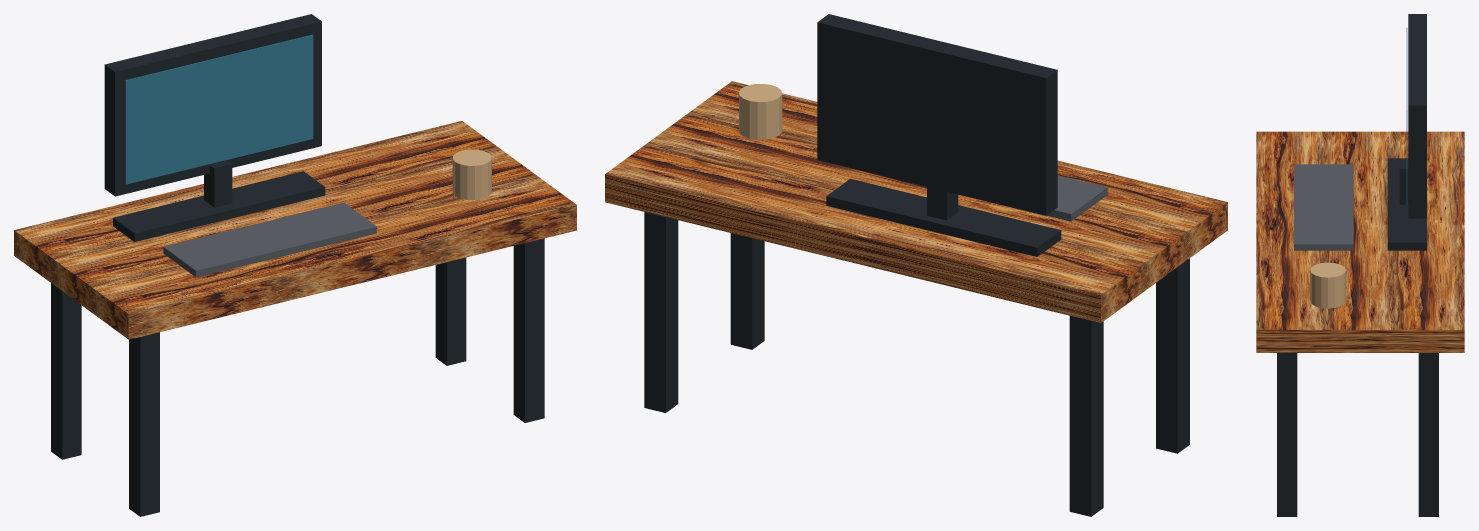
Rendered from desk.obj.
3 renders of one model, left to right at view 1: azimuth 30°, elevation 25°; view 2: azimuth 150°, elevation 25°; view 3: azimuth 270°, elevation 25°, orthographic. The views are drawn at different scales.
Parts seen in each view (by area): view 1: desk; view 2: desk; view 3: desk.
Part boxes in pixels (x1,y1,x2,y2): desk: [14, 14, 576, 516]; desk: [605, 14, 1227, 516]; desk: [1256, 14, 1464, 516].
Size of the model in its own units: 2.75 by 2.23 by 1.22.
